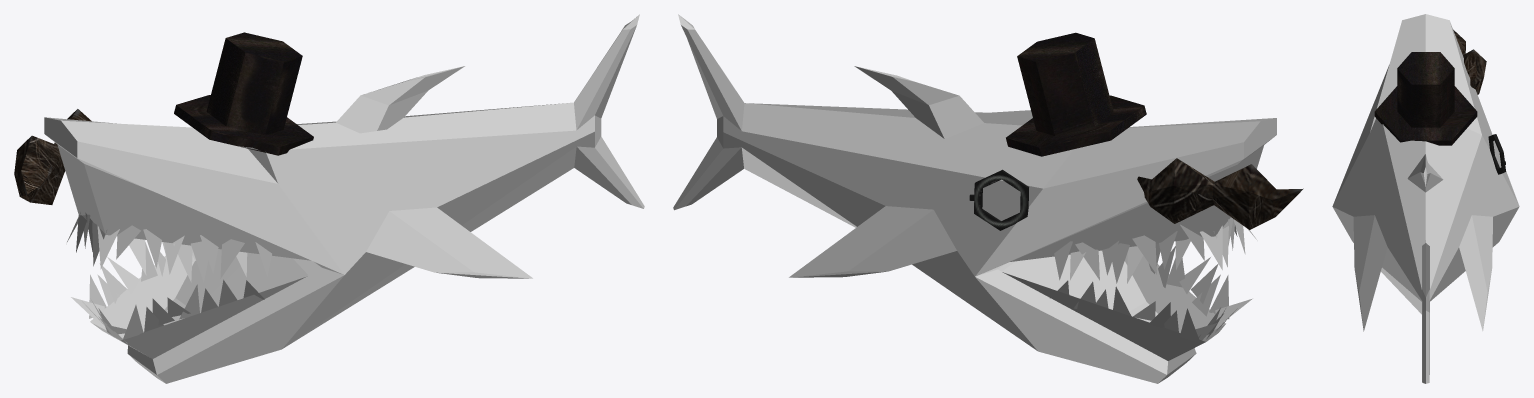
Rendered from modelshark v1.fbx.
3 renders of one model, left to right at view 1: azimuth 30°, elevation 25°; view 2: azimuth 150°, elevation 25°; view 3: azimuth 270°, elevation 25°, orthographic. The views are drawn at different scales.
Parts seen in each view (by area): view 1: shark, hat, mostacho; view 2: shark, hat, mostacho, monocule; view 3: shark, hat, mostacho, monocule.
Boxes of the visible parts, x1=… form: shark: x1=44, y1=14, x2=644, y2=383; hat: x1=174, y1=32, x2=313, y2=155; mostacho: x1=14, y1=109, x2=91, y2=204; shark: x1=673, y1=14, x2=1276, y2=383; hat: x1=1006, y1=32, x2=1146, y2=156; mostacho: x1=1137, y1=158, x2=1303, y2=229; monocule: x1=969, y1=169, x2=1028, y2=230; shark: x1=1332, y1=14, x2=1519, y2=383; hat: x1=1374, y1=52, x2=1477, y2=145; mostacho: x1=1453, y1=29, x2=1486, y2=94; monocule: x1=1488, y1=134, x2=1505, y2=174.
Bounding box in the file's own units: 5.05 × 2.42 × 1.83.
